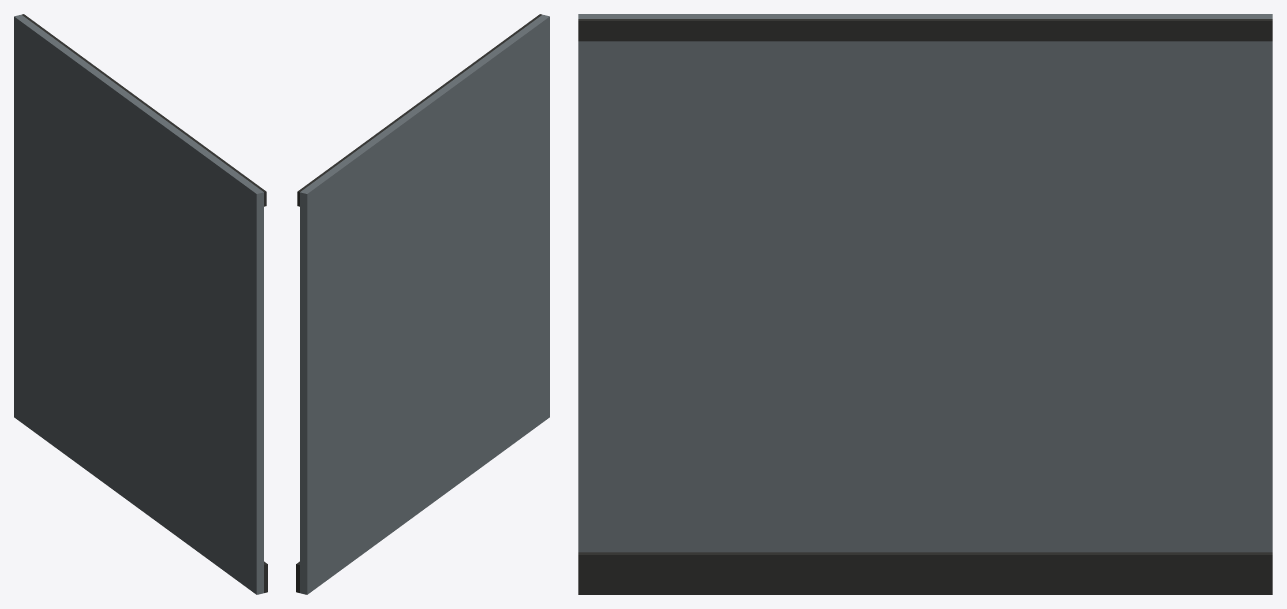
The model's file is ParedeLowPoly03.fbx.
3 renders of one model, left to right at view 1: azimuth 30°, elevation 25°; view 2: azimuth 150°, elevation 25°; view 3: azimuth 270°, elevation 25°, orthographic. The views are drawn at different scales.
Parts seen in each view (by area): view 1: Cube; view 2: Cube; view 3: Cube.
Boxes of the visible parts, x1,y1,x2,y2 form: Cube: (14,14,267,594); Cube: (296,14,549,594); Cube: (578,14,1272,594).
Size of the model in its own units: 36.83 by 1262 by 1385.
